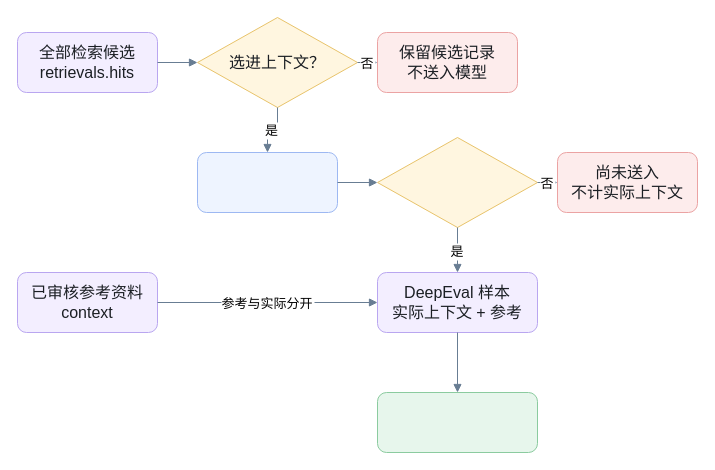
The diagram is 715 pixels wide and 470 high, and some of its shapes have lost their labels. Each missing label, with the box of its shape:
后续模型调用？: (376, 136, 538, 228)
回填工具片段 emitted: (196, 152, 338, 212)
核对版本与位置 再评价相关性: (376, 392, 538, 452)
